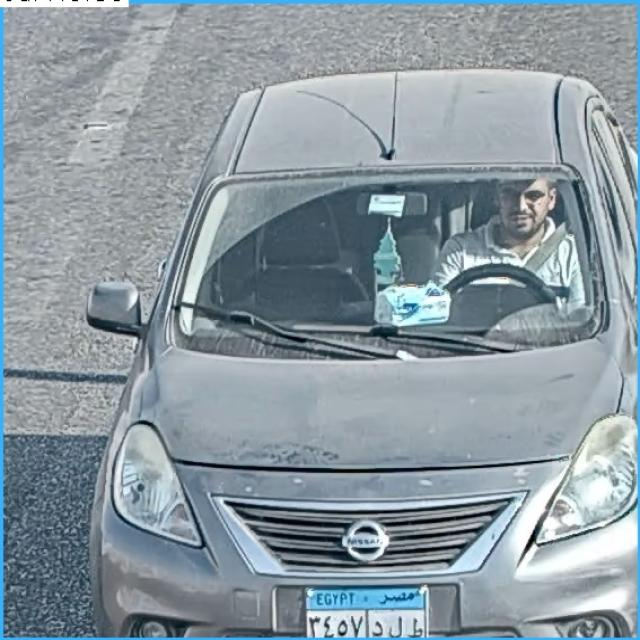windshield: (183, 179, 590, 344)
